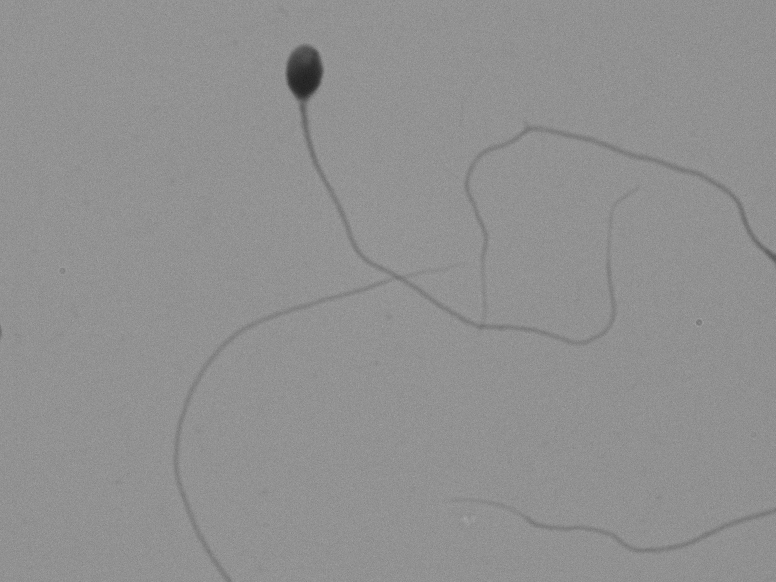Normal: (265, 31, 649, 394)
